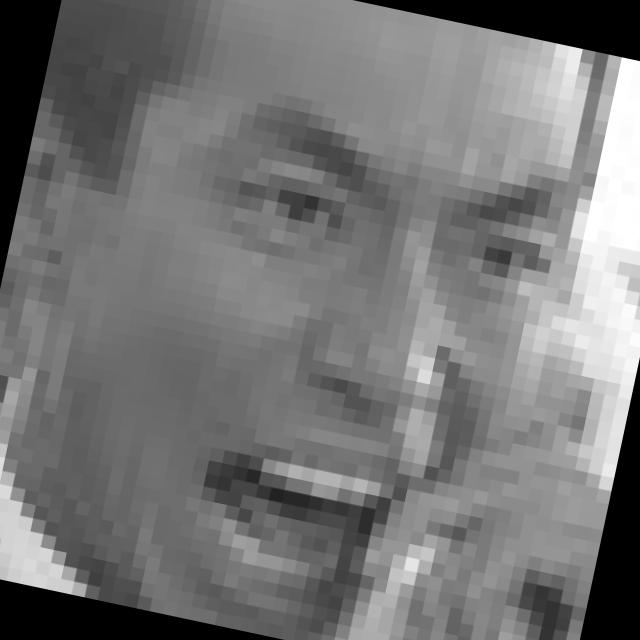angry: (110, 88, 578, 627)
